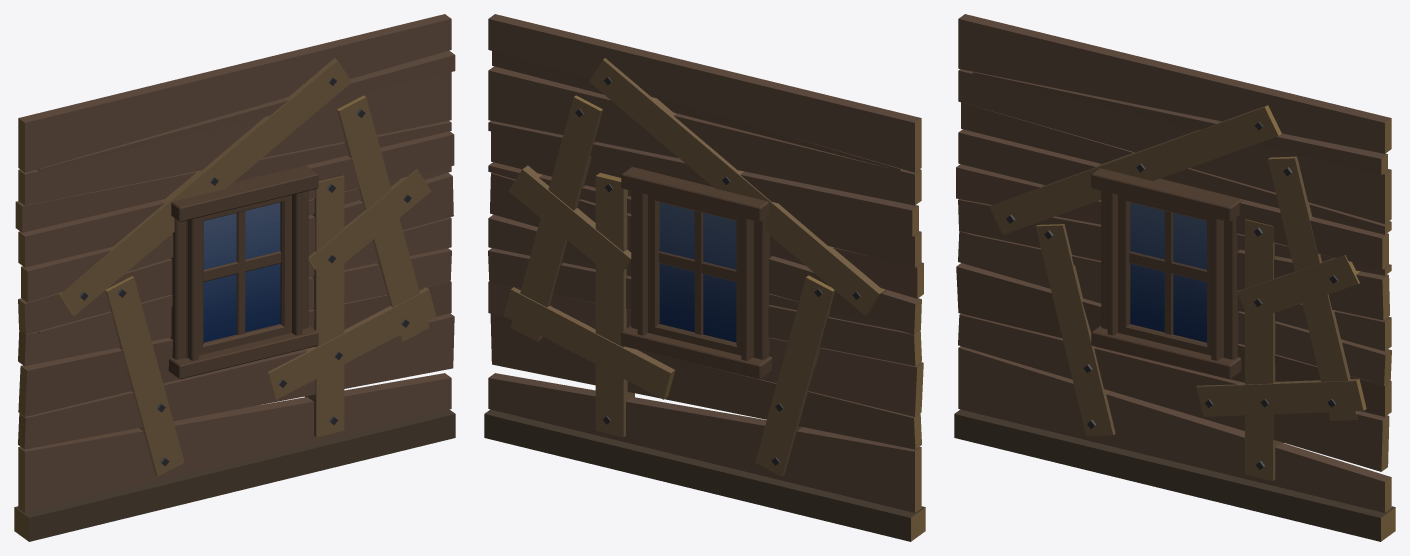
The model's file is Wall_1E_Window_4m.fbx.
3 views of the same model, side by side, from view 1: azimuth 30°, elevation 25°; view 2: azimuth 150°, elevation 25°; view 3: azimuth 330°, elevation 25° (orthographic).
Visible parts, largest first — view 1: pCube1320; view 2: pCube1320; view 3: pCube1320.
Boxes of the visible parts, x1=… form: pCube1320: x1=14, y1=14, x2=455, y2=541; pCube1320: x1=484, y1=14, x2=925, y2=541; pCube1320: x1=954, y1=14, x2=1395, y2=541.
Bounding box in the file's own units: 401 × 373 × 46.54.
